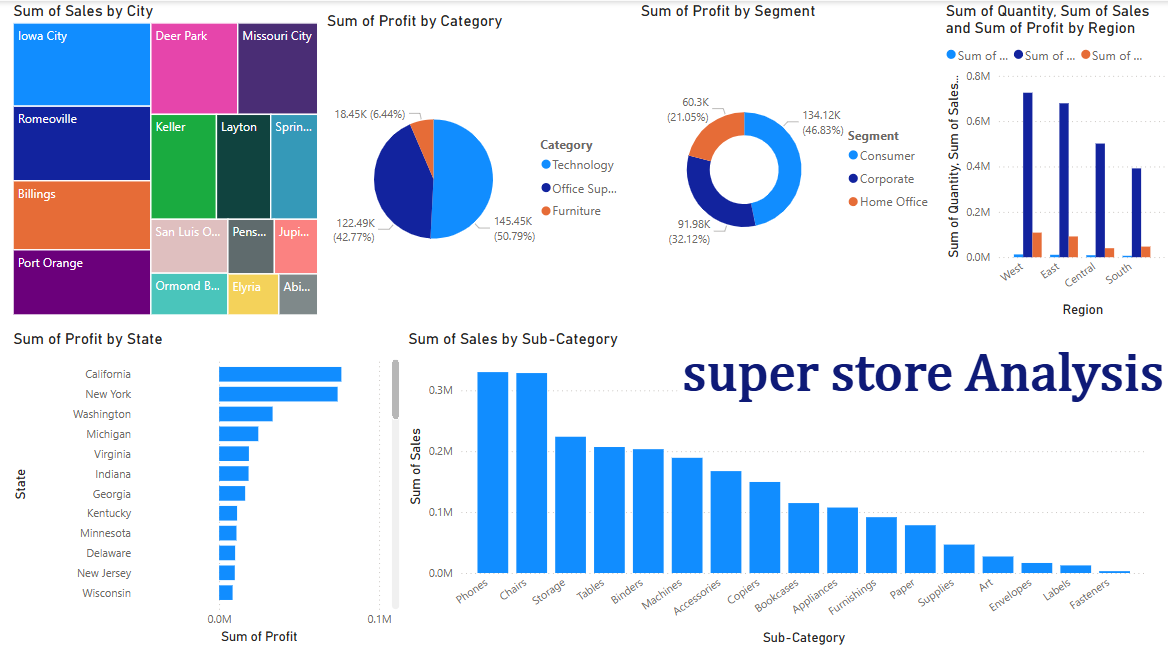

The page's visual inventory and layout, read from the dashboard file:
{"tool":"powerbi","page":{"name":"Page 1","canvas":[1280,720],"ordinal":0},"visuals":[{"type":"treemap","fields":{"Values":["Sum(SampleSuperstore.Sales)"],"Group":["SampleSuperstore.City"]},"box":[9.6,0,343.1,348.5],"z":0},{"type":"pieChart","fields":{"Category":["SampleSuperstore.Category"],"Y":["Sum(SampleSuperstore.Profit)"]},"box":[352.7,11,343.1,348.5],"z":1},{"type":"barChart","fields":{"Category":["SampleSuperstore.State"],"Y":["Sum(SampleSuperstore.Profit)"]},"box":[9.6,359.5,432.2,348.5],"z":2},{"type":"donutChart","fields":{"Category":["SampleSuperstore.Segment"],"Y":["Sum(SampleSuperstore.Profit)"]},"box":[695.7,0,333.4,349.9],"z":3},{"type":"columnChart","fields":{"Category":["SampleSuperstore.Sub-Category"],"Y":["Sum(SampleSuperstore.Sales)"]},"box":[441.9,359.5,816.5,349.9],"z":4},{"type":"clusteredColumnChart","fields":{"Category":["SampleSuperstore.Region"],"Y":["Sum(SampleSuperstore.Quantity)","Sum(SampleSuperstore.Sales)","Sum(SampleSuperstore.Profit)"]},"box":[1029.2,0,251.1,349.9],"z":5},{"type":"textbox","box":[740.6,371.6,539.7,99.7],"z":6}]}

Visuals, with their boxes in screenshot pixels (x1, y1, x2, y2), scaled from the page's 1280x720 canvas onto the 1168x658 screenshot:
treemap - Sum(SampleSuperstore.Sales) x SampleSuperstore.City: <region>9, 0, 322, 318</region>
pieChart - SampleSuperstore.Category x Sum(SampleSuperstore.Profit): <region>322, 10, 635, 329</region>
barChart - SampleSuperstore.State x Sum(SampleSuperstore.Profit): <region>9, 329, 403, 647</region>
donutChart - SampleSuperstore.Segment x Sum(SampleSuperstore.Profit): <region>635, 0, 939, 320</region>
columnChart - SampleSuperstore.Sub-Category x Sum(SampleSuperstore.Sales): <region>403, 329, 1148, 648</region>
clusteredColumnChart - SampleSuperstore.Region x Sum(SampleSuperstore.Quantity): <region>939, 0, 1167, 320</region>
textbox: <region>676, 340, 1167, 431</region>
